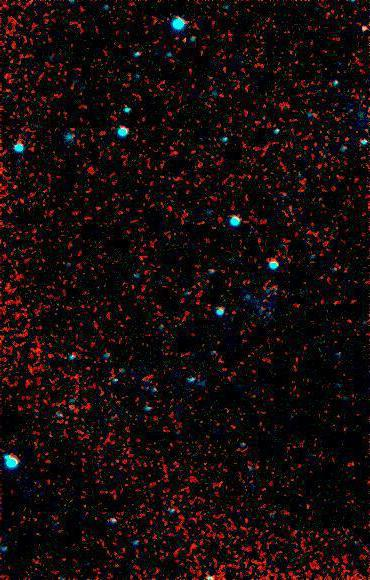star: (351, 8, 370, 38)
